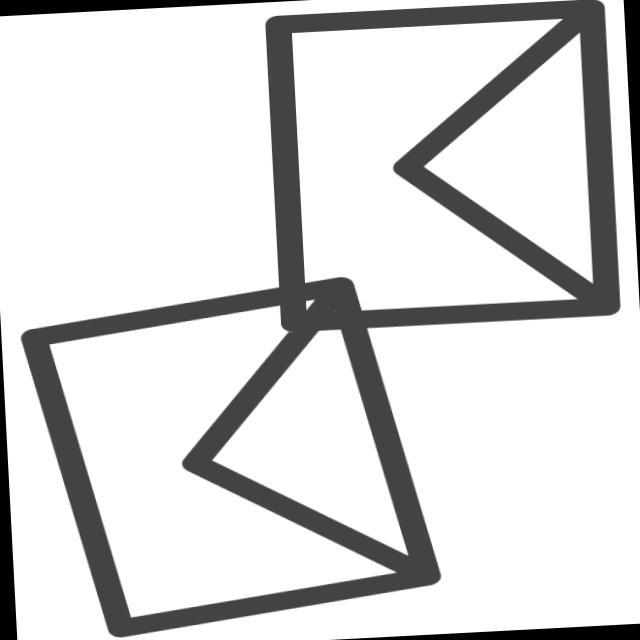letter: (10, 266, 450, 640), (252, 1, 633, 343)
